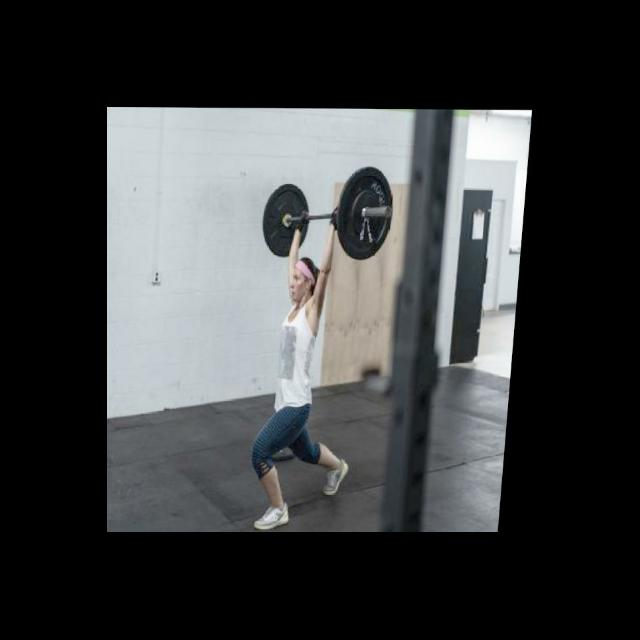barbell: (326, 165, 398, 263)
